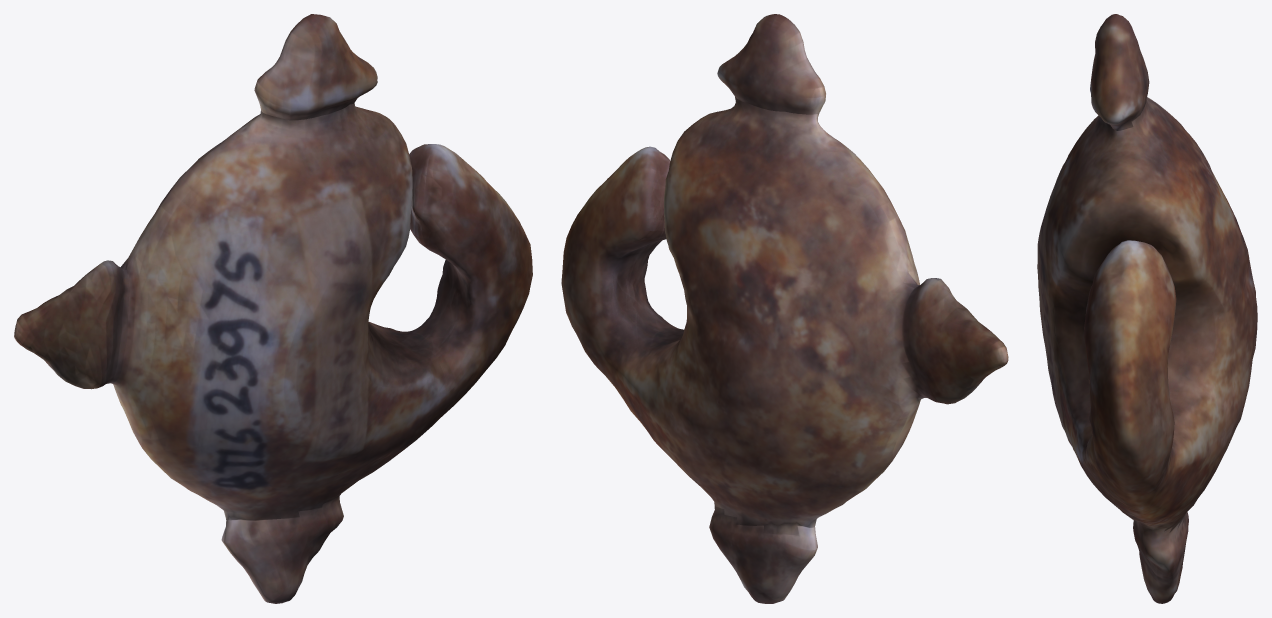
Rendered from KhuyenTai.gltf.
The picture shows the model from 3 angles, left to right: view 1: azimuth 30°, elevation 25°; view 2: azimuth 150°, elevation 25°; view 3: azimuth 270°, elevation 25°; orthographic projection. The views are drawn at different scales.
Parts seen in each view (by area): view 1: Khuyen_tai; view 2: Khuyen_tai; view 3: Khuyen_tai.
Boxes of the visible parts, box(x1,y1,x2,y2) form: Khuyen_tai: box(14, 14, 532, 603); Khuyen_tai: box(561, 14, 1008, 603); Khuyen_tai: box(1037, 14, 1257, 603).
Size of the model in its own units: 0.3716 by 0.4342 by 0.1467.
Materials: 1 (1 with a texture image).
